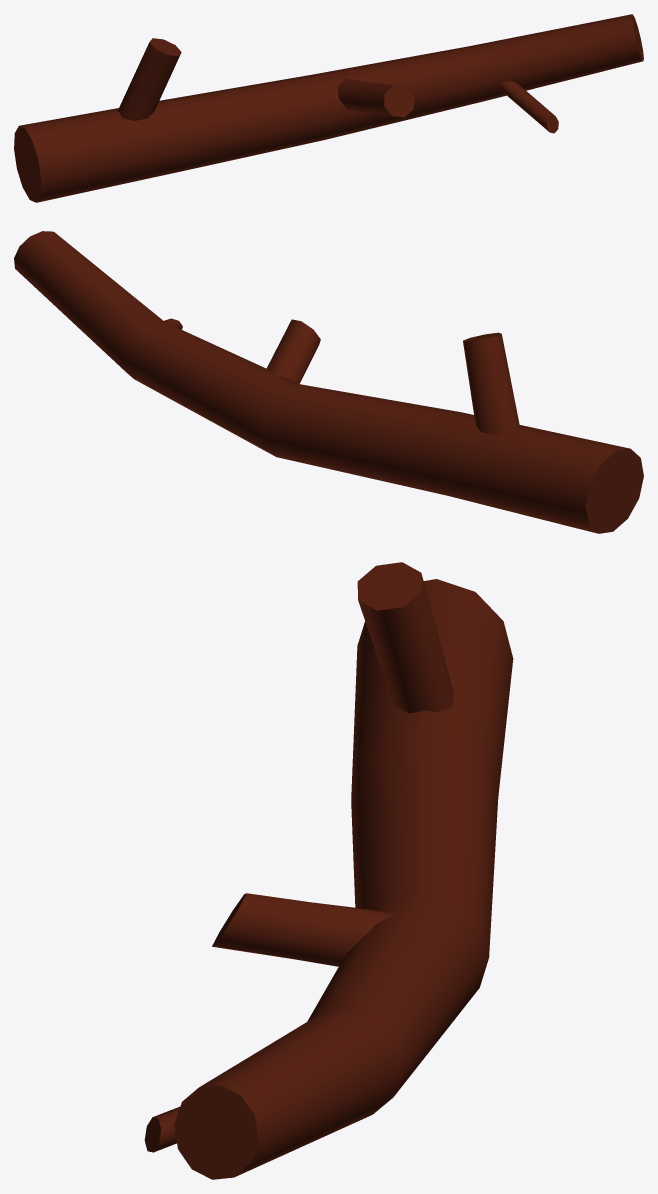
3 views of the same model, one above another, from view 1: azimuth 30°, elevation 25°; view 2: azimuth 150°, elevation 25°; view 3: azimuth 270°, elevation 25° (orthographic). The views are drawn at different scales.
Parts seen in each view (by area): view 1: root_03; view 2: root_03; view 3: root_03.
Part boxes in pixels (bbox=[...]): root_03: bbox=[14, 14, 643, 202]; root_03: bbox=[14, 231, 643, 533]; root_03: bbox=[144, 562, 513, 1179].
Size of the model in its own units: 184 by 43.41 by 51.24.
